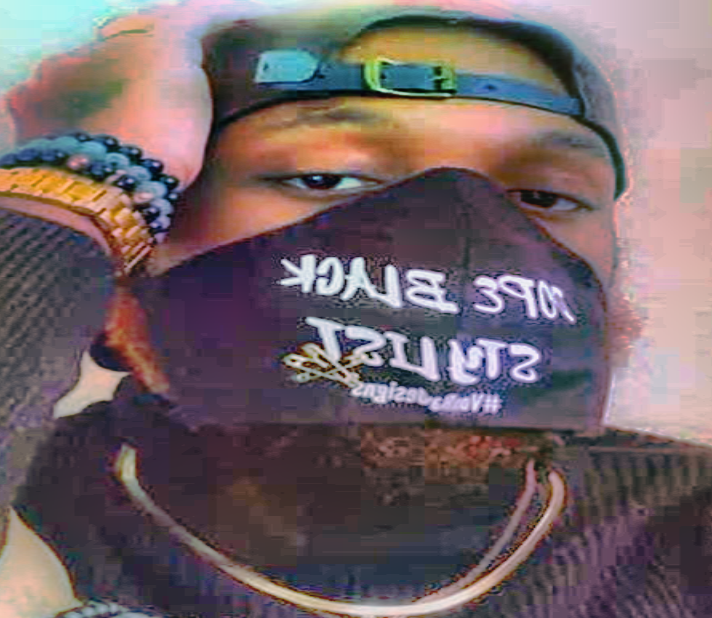mask_weared_incorrect: (71, 0, 655, 504)
